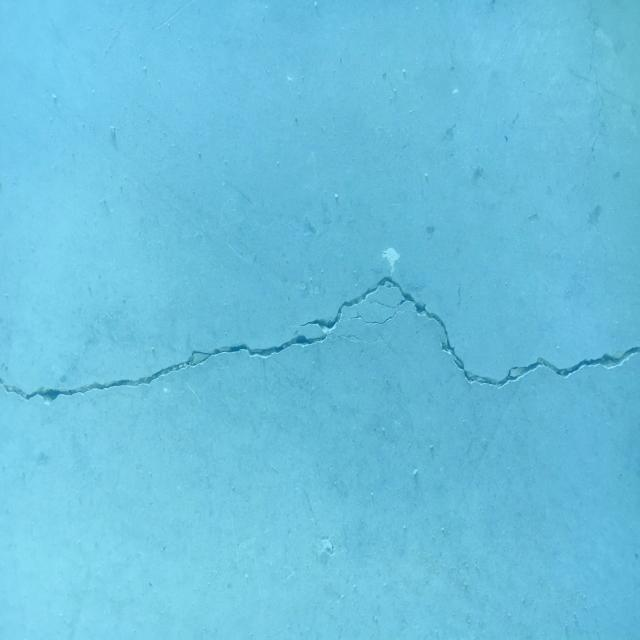crack: (0, 276, 640, 403)
